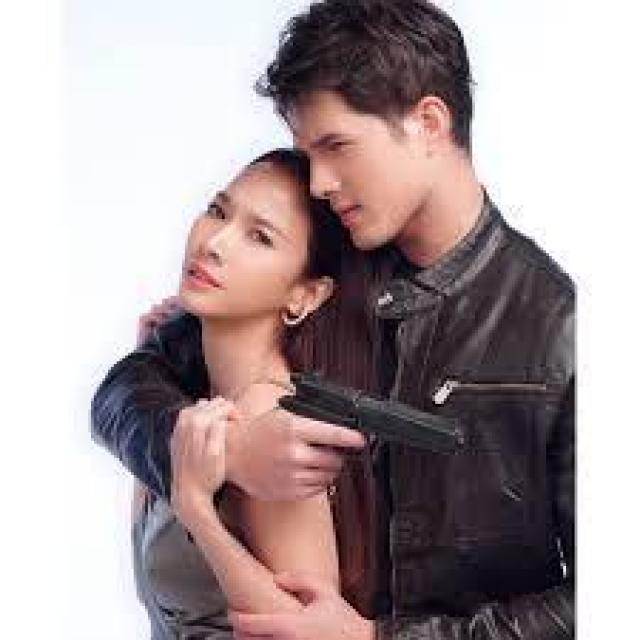jacket: (94, 219, 577, 640)
